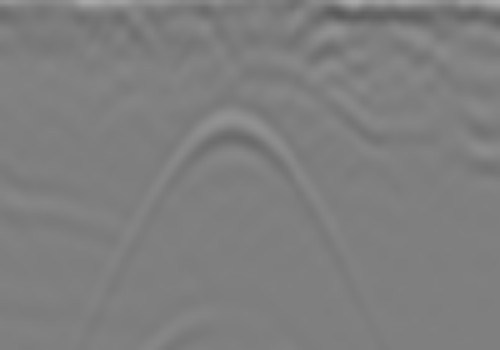hyperbola: (100, 100, 365, 308)
